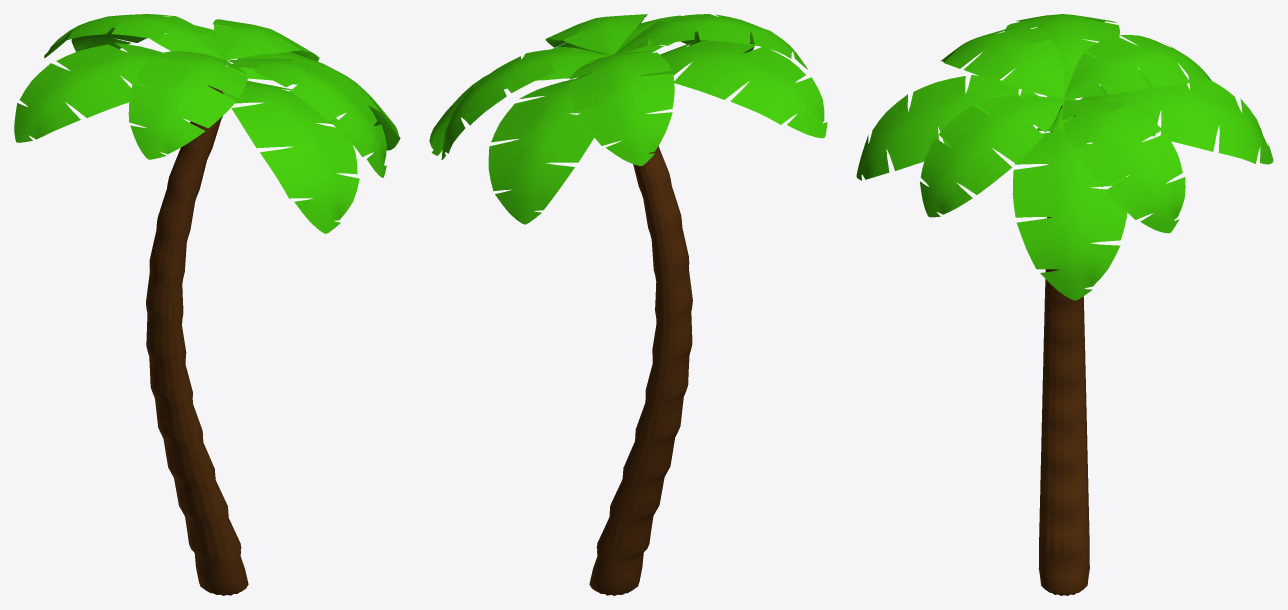
Rendered from palma.fbx.
3 renders of one model, left to right at view 1: azimuth 30°, elevation 25°; view 2: azimuth 150°, elevation 25°; view 3: azimuth 270°, elevation 25°, orthographic. The views are drawn at different scales.
Visible parts, largest first — view 1: palma; view 2: palma; view 3: palma.
Part boxes in pixels (box(x1,y1,x2,y2)): palma: box(14, 14, 400, 595); palma: box(429, 14, 827, 595); palma: box(856, 14, 1273, 595).
Size of the model in its own units: 1.52 by 2.15 by 1.57.
